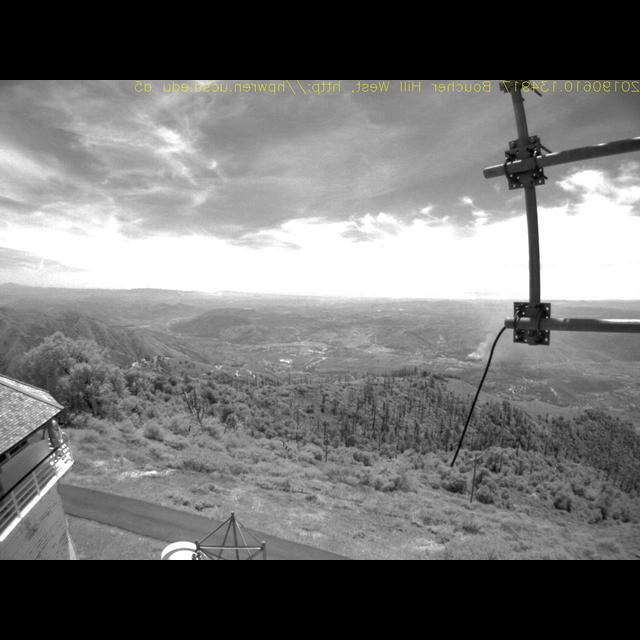Smoke: (468, 302, 513, 362)
